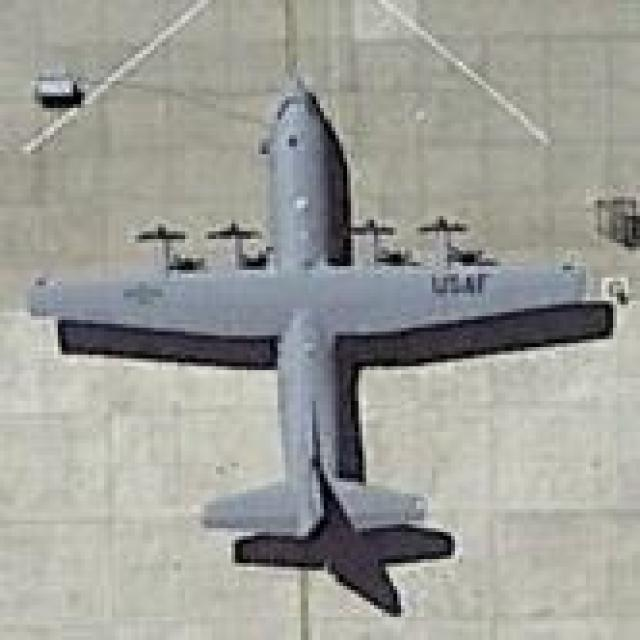C-130_TopDown: (25, 76, 616, 621)
